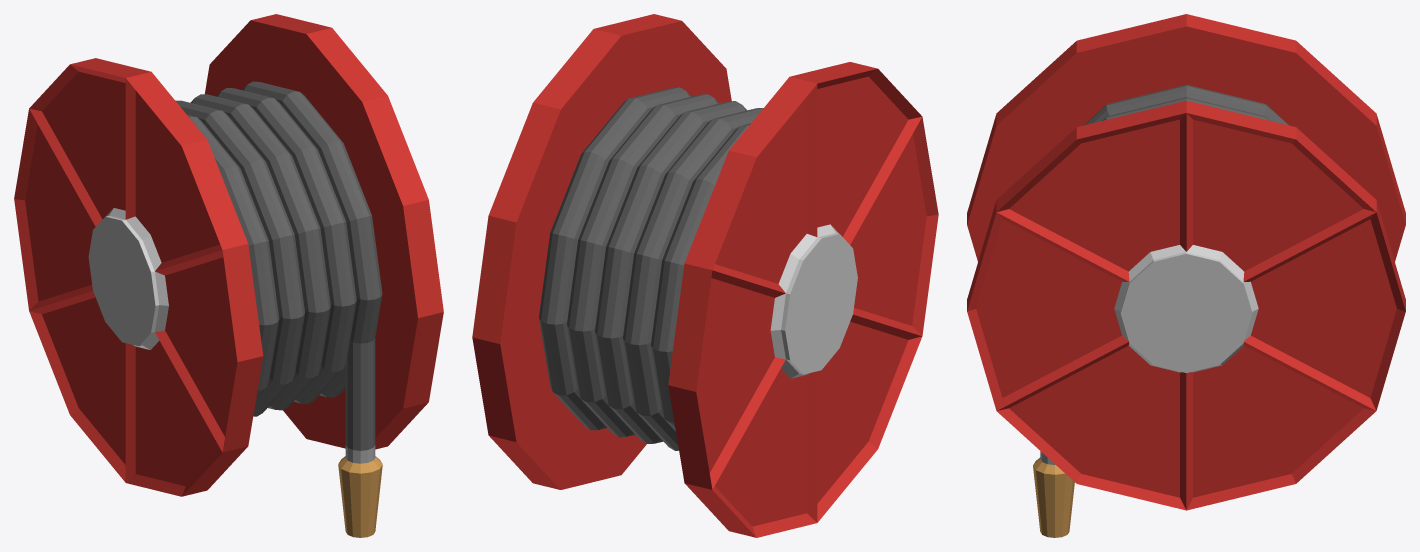
File: Fire Hose Reel.fbx
The picture shows the model from 3 angles, left to right: view 1: azimuth 30°, elevation 25°; view 2: azimuth 150°, elevation 25°; view 3: azimuth 270°, elevation 25°; orthographic projection. The views are drawn at different scales.
Parts seen in each view (by area): view 1: Fire Hose Reel; view 2: Fire Hose Reel; view 3: Fire Hose Reel.
Boxes of the visible parts, box(x1,y1,x2,y2) form: Fire Hose Reel: box(14, 14, 443, 537); Fire Hose Reel: box(472, 14, 938, 537); Fire Hose Reel: box(967, 14, 1405, 537).
Bounding box in the file's own units: 3.32 × 6.6 × 6.
